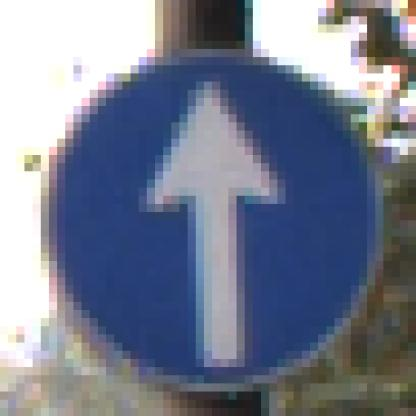AheadOnly: (42, 42, 368, 368)
